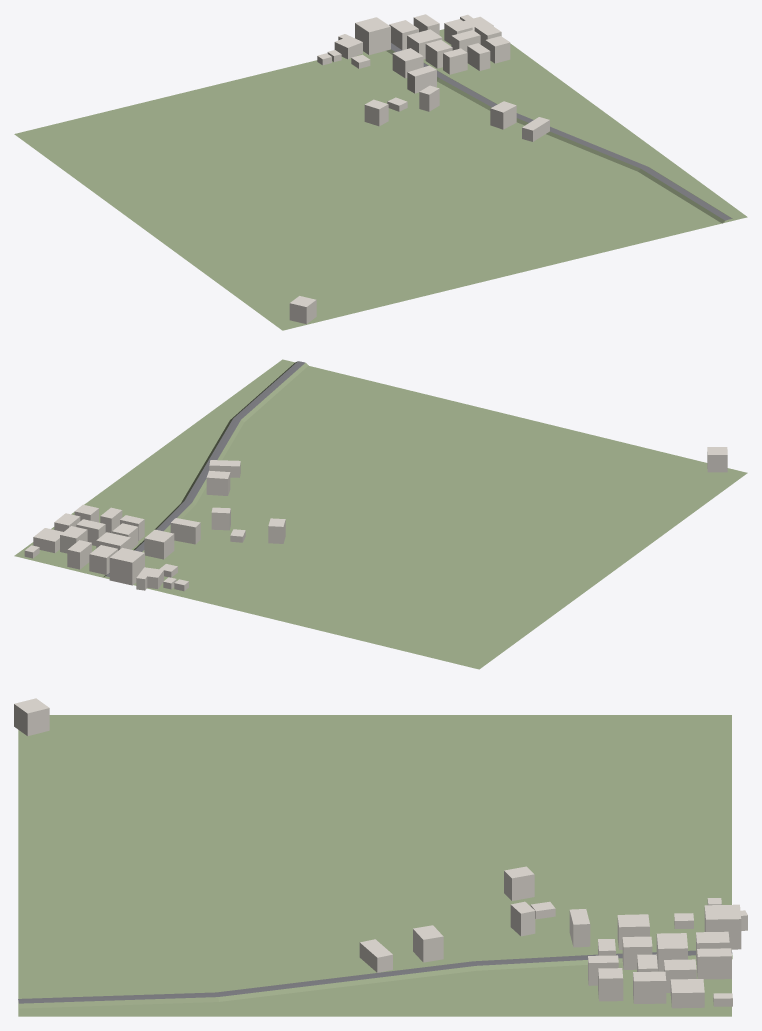
Rendered from dhamrai_chunk_x1_z1.glb.
3 renders of one model, top to bottom at view 1: azimuth 30°, elevation 25°; view 2: azimuth 150°, elevation 25°; view 3: azimuth 270°, elevation 25°, orthographic. The views are drawn at different scales.
Visible parts, largest first — view 1: terrain, buildings, roads, embankments; view 2: terrain, buildings, roads, embankments; view 3: terrain, buildings, embankments, roads.
Boxes of the visible parts, left/top/right/bottom form: terrain: left=14, top=29, right=747, bottom=330; buildings: left=289, top=14, right=549, bottom=324; roads: left=391, top=43, right=731, bottom=220; embankments: left=386, top=49, right=732, bottom=223; terrain: left=14, top=359, right=747, bottom=669; buildings: left=24, top=447, right=727, bottom=591; roads: left=106, top=361, right=304, bottom=576; embankments: left=104, top=361, right=308, bottom=576; terrain: left=18, top=715, right=731, bottom=1016; buildings: left=14, top=698, right=747, bottom=1008; embankments: left=19, top=954, right=732, bottom=1008; roads: left=18, top=950, right=732, bottom=1003.
Size of the model in its own units: 256 by 13.23 by 263.
